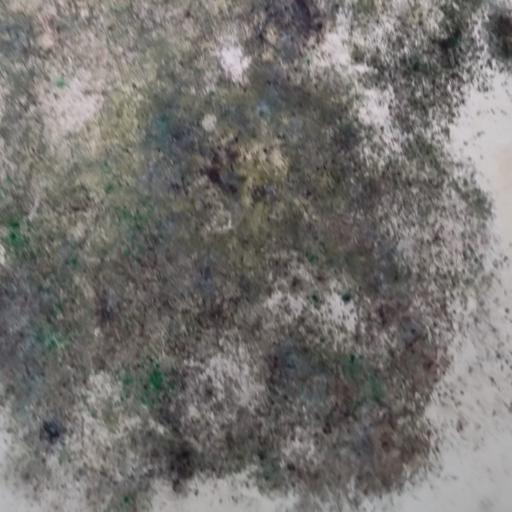algae: (0, 0, 490, 511)
